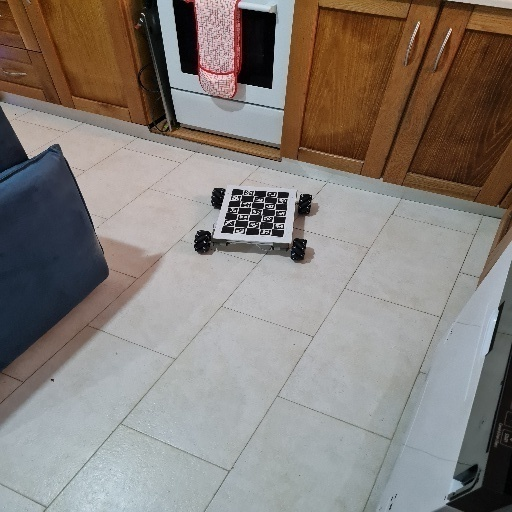Omniwheel: (192, 186, 315, 262)
